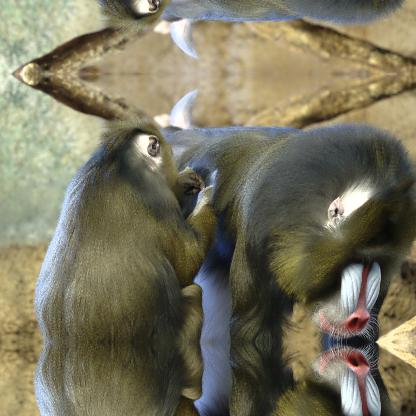Monkey: (28, 113, 222, 341), (28, 342, 222, 415)
